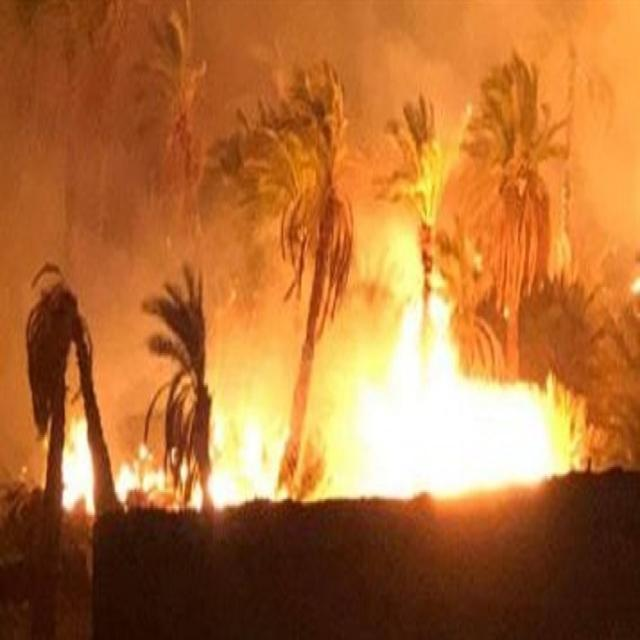Fire: (343, 266, 458, 500), (448, 374, 572, 494), (208, 409, 290, 509), (116, 440, 204, 515), (61, 412, 95, 518), (40, 436, 50, 493), (630, 272, 640, 322)
Smoke: (0, 89, 173, 284), (563, 0, 640, 276), (357, 1, 472, 153), (86, 269, 166, 421), (206, 322, 294, 413), (472, 0, 562, 68), (356, 208, 422, 294), (310, 340, 342, 510)
